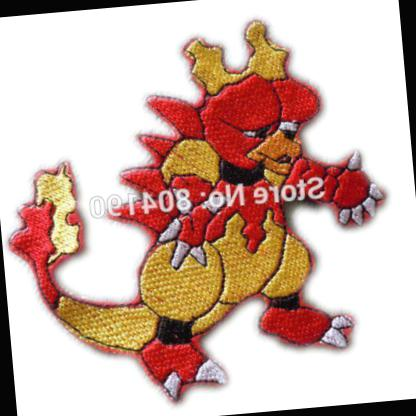Magmar: (46, 0, 415, 405)
